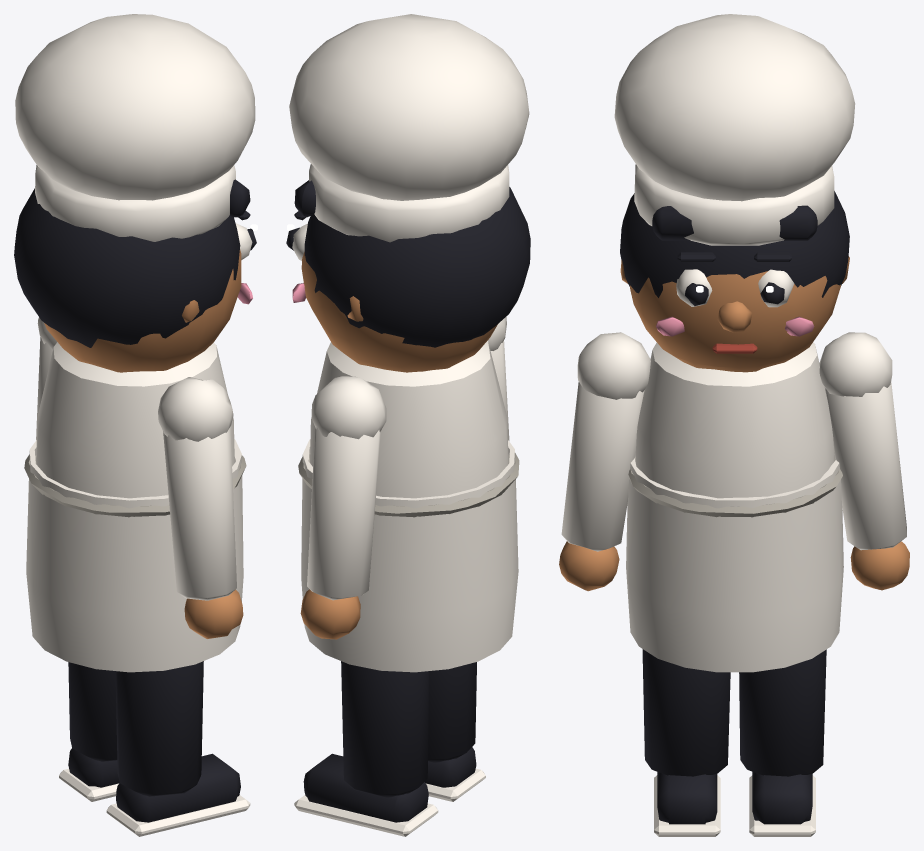
The model's file is ped_chef.glb.
The picture shows the model from 3 angles, left to right: view 1: azimuth 30°, elevation 25°; view 2: azimuth 150°, elevation 25°; view 3: azimuth 270°, elevation 25°; orthographic projection.
Visible parts, largest first — view 1: ped_chef; view 2: ped_chef; view 3: ped_chef.
Boxes of the visible parts, box(x1,y1,x2,y2) form: ped_chef: box(14, 14, 257, 836); ped_chef: box(286, 14, 530, 836); ped_chef: box(559, 14, 909, 836).
Size of the model in its own units: 0.4688 by 1.64 by 0.6737.
1 material, 1 textured.
